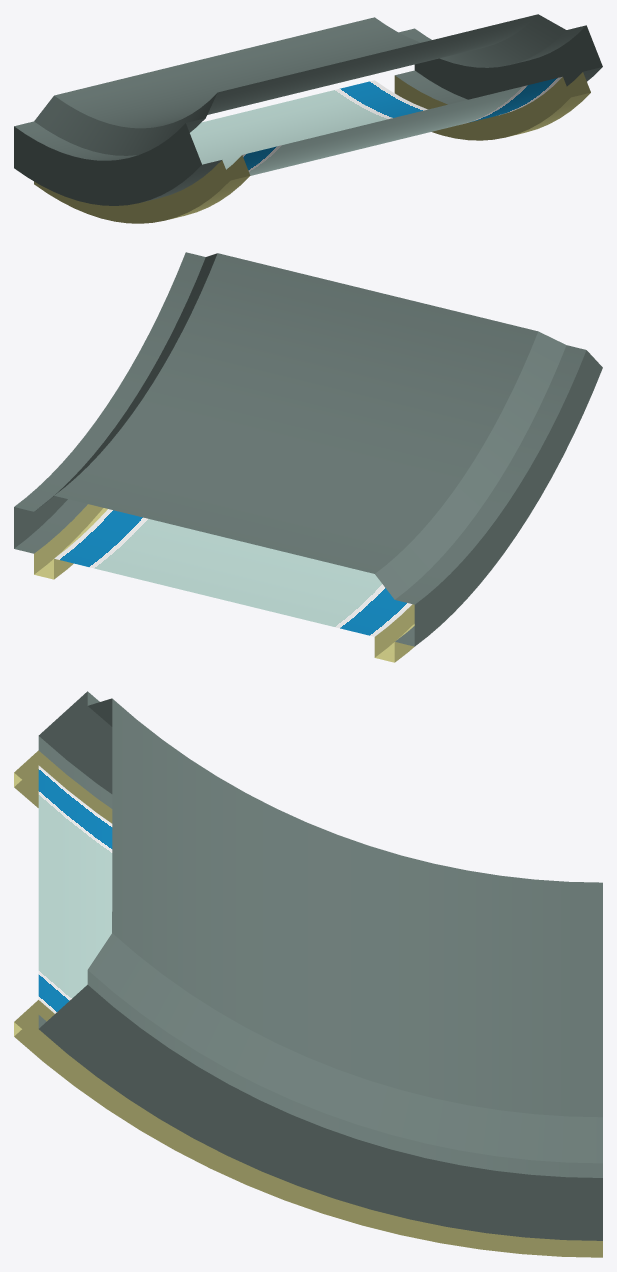
File: T0_Curve_R10_D45_Z_SMT.obj
3 renders of one model, top to bottom at view 1: azimuth 30°, elevation 25°; view 2: azimuth 150°, elevation 25°; view 3: azimuth 270°, elevation 25°, orthographic. The views are drawn at different scales.
Visible parts, largest first — view 1: T0_Curve_R10_D45_Z_SMT; view 2: T0_Curve_R10_D45_Z_SMT; view 3: T0_Curve_R10_D45_Z_SMT.
Boxes of the visible parts, <box> form: T0_Curve_R10_D45_Z_SMT: <box>14,14,602,223</box>; T0_Curve_R10_D45_Z_SMT: <box>14,252,602,662</box>; T0_Curve_R10_D45_Z_SMT: <box>14,691,602,1257</box>.
Size of the model in its own units: 10 by 4.93 by 8.49.
